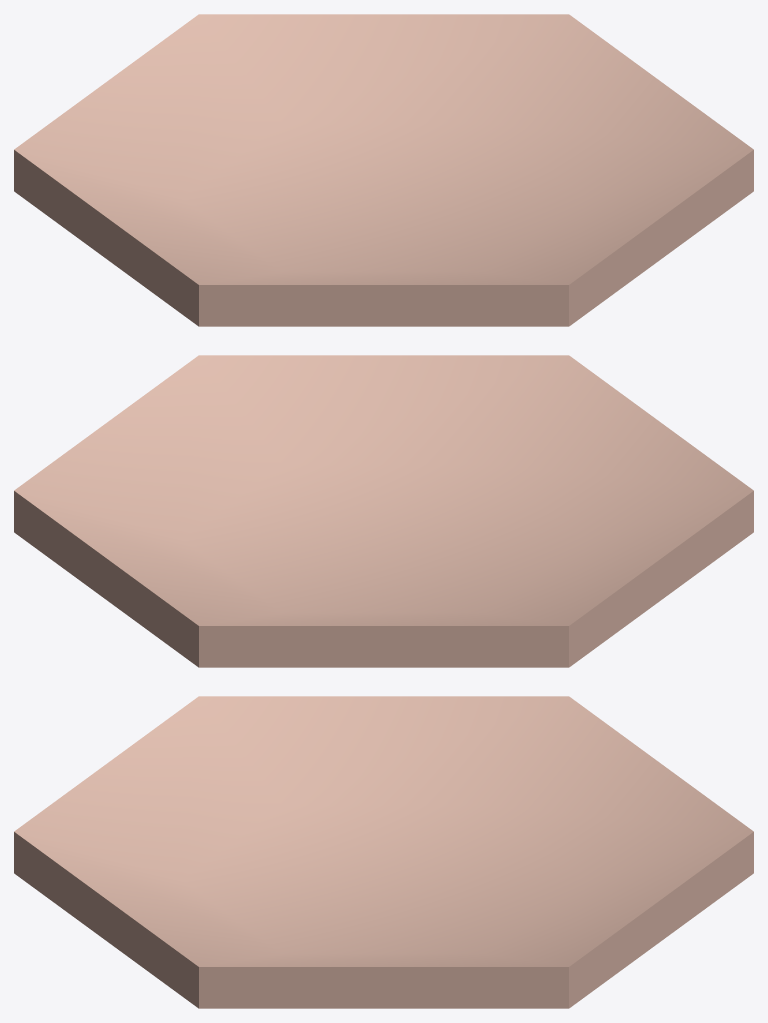
The model's file is prato_grande_pacote.glb.
3 views of the same model, one above another, from view 1: azimuth 30°, elevation 25°; view 2: azimuth 150°, elevation 25°; view 3: azimuth 270°, elevation 25° (orthographic).
Parts seen in each view (by area): view 1: prato_grande_pacote; view 2: prato_grande_pacote; view 3: prato_grande_pacote.
Part boxes in pixels (x1,y1,x2,y2): prato_grande_pacote: (14, 14, 753, 326); prato_grande_pacote: (14, 355, 753, 667); prato_grande_pacote: (14, 696, 753, 1008).
Size of the model in its own units: 0.3898 by 0.0574 by 0.4501.
1 material, 1 textured.
